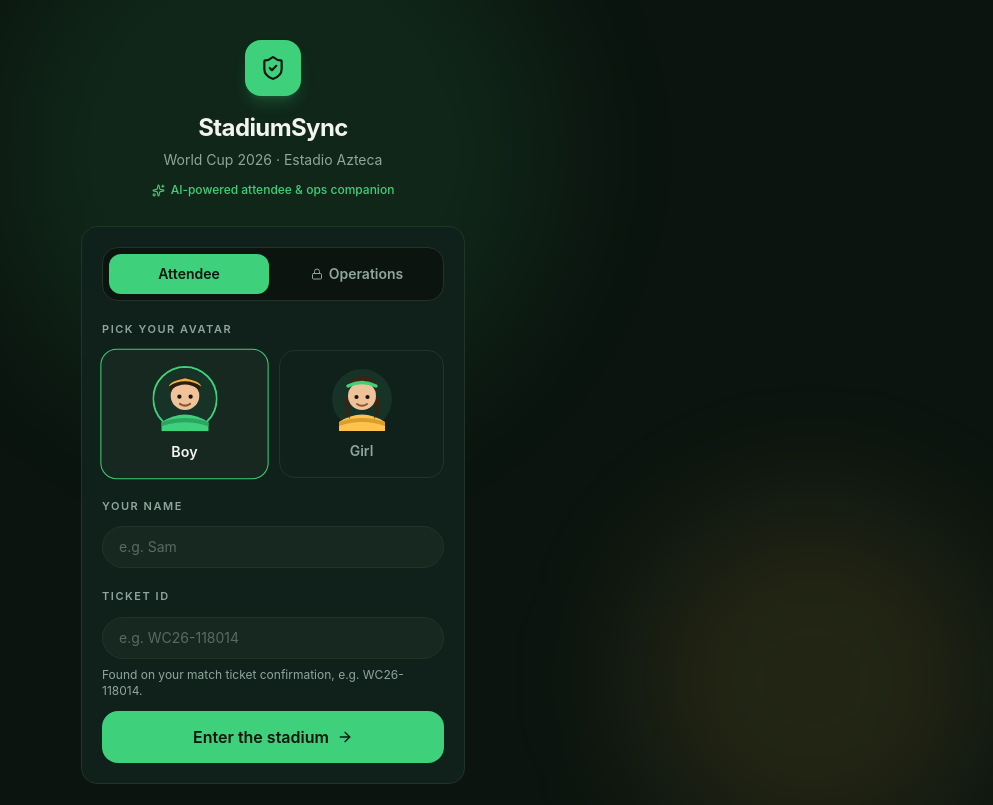
Onboarding — Attendee entry › shows a ticket format error and does not proceed on an invalid ticket
Type "abc" into the field named "ticket id" at {"x": 273, "y": 638}, box [102,616,444,658]
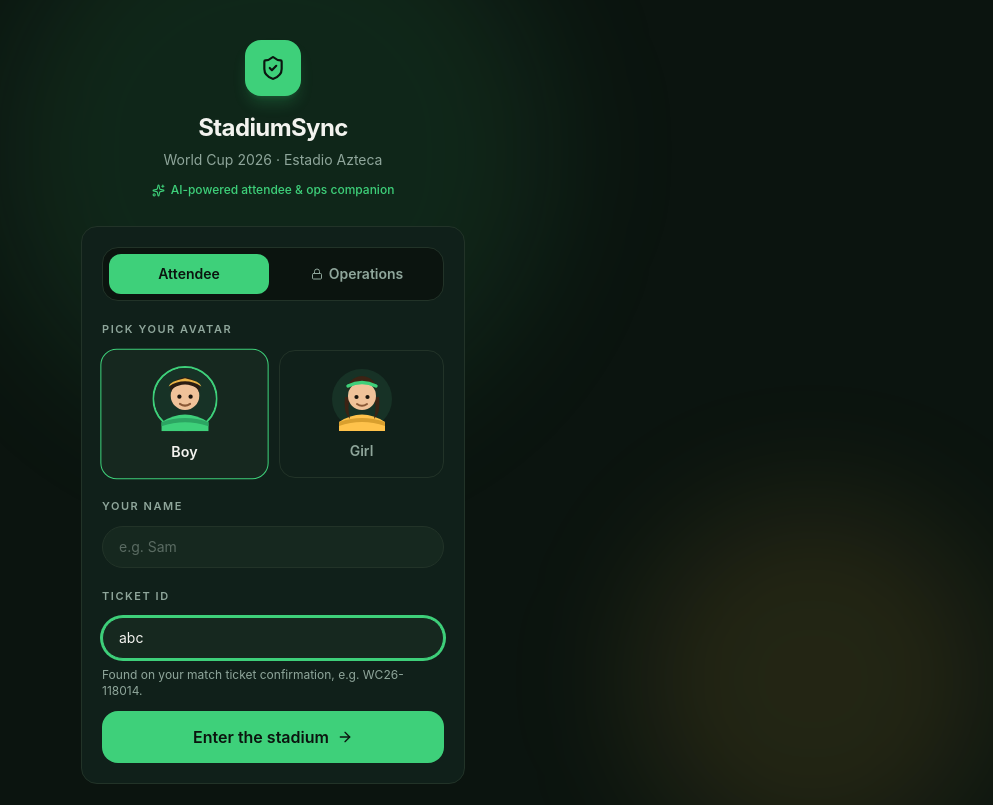
Click the button "Enter the stadium" at {"x": 273, "y": 736}, box [102,710,444,762]
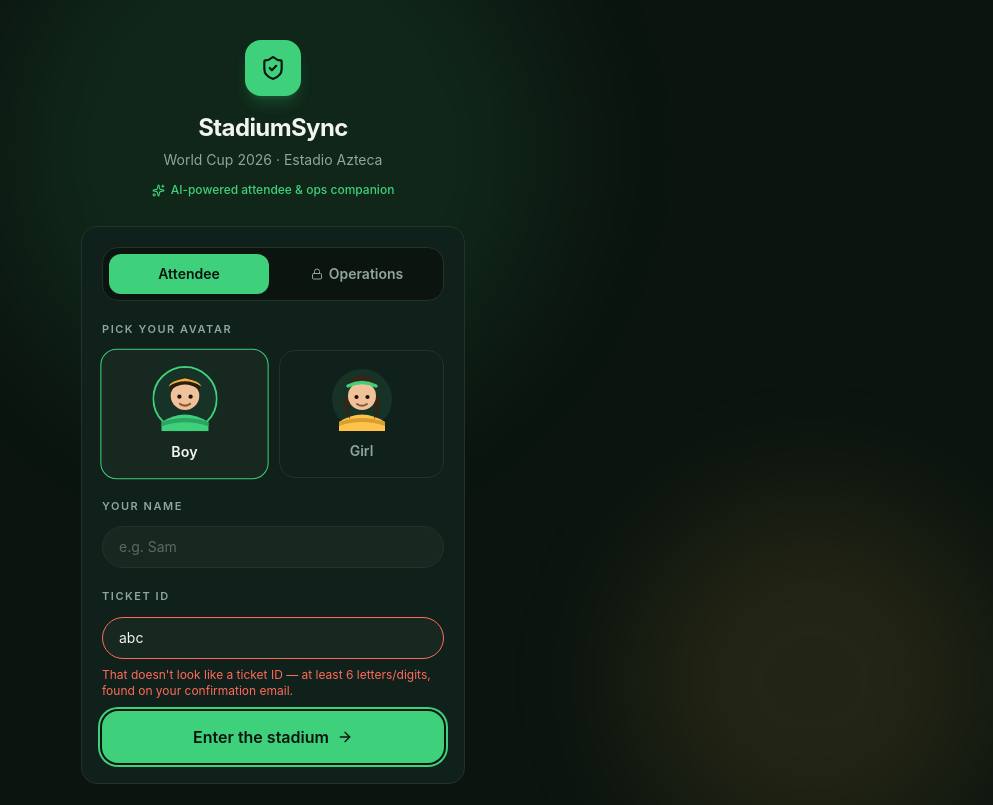
Check: the message shows "doesn't look like a ticket ID", box [102,666,431,698]
